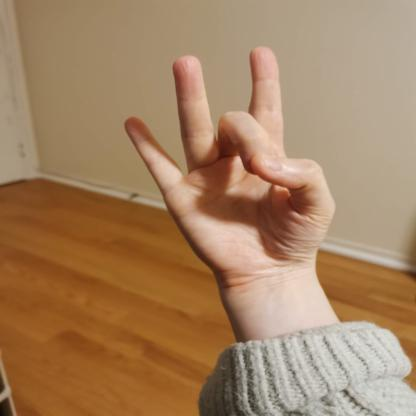eight: (120, 42, 343, 298)
